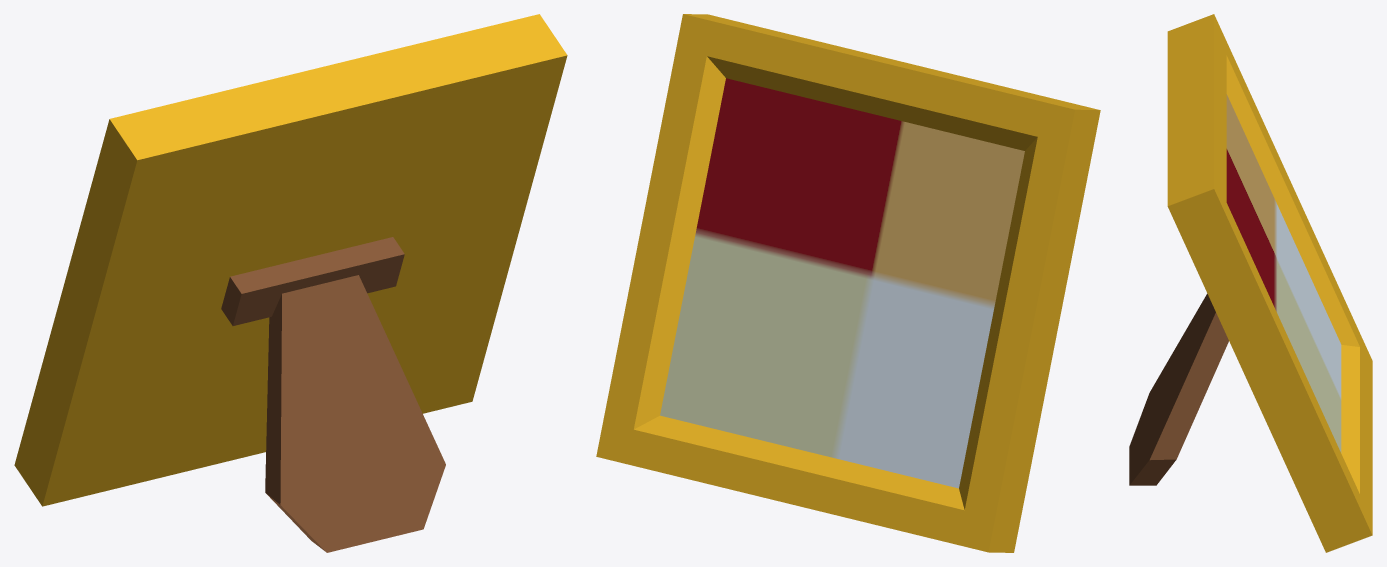
Rendered from mesh_photo.fbx.
3 renders of one model, left to right at view 1: azimuth 30°, elevation 25°; view 2: azimuth 150°, elevation 25°; view 3: azimuth 270°, elevation 25°, orthographic. The views are drawn at different scales.
Parts seen in each view (by area): view 1: mesh_photomark_01; view 2: mesh_photomark_01; view 3: mesh_photomark_01.
Part boxes in pixels (left/top/right/bottom): mesh_photomark_01: left=14, top=14, right=567, bottom=552; mesh_photomark_01: left=596, top=14, right=1100, bottom=552; mesh_photomark_01: left=1129, top=14, right=1372, bottom=552.
Bounding box in the file's own units: 5.73 × 5.57 × 3.36.
